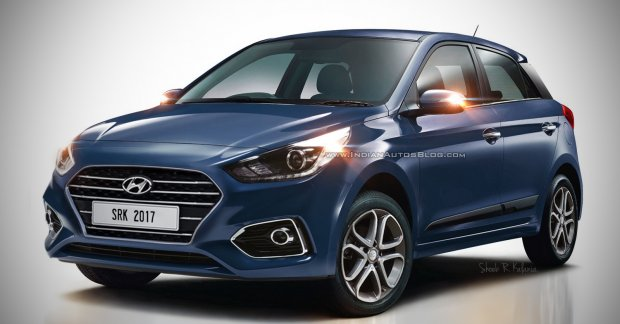i20: (36, 19, 601, 324)
